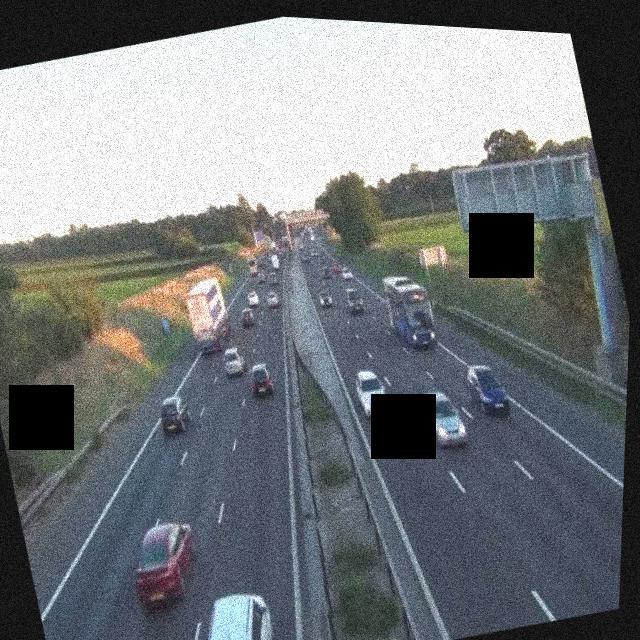car: (122, 514, 209, 614), (187, 584, 285, 640), (413, 384, 470, 453), (461, 357, 513, 421), (350, 365, 393, 422), (155, 393, 194, 438), (246, 359, 276, 399), (219, 343, 247, 378), (346, 287, 366, 315), (236, 300, 257, 324), (317, 286, 334, 308), (264, 289, 280, 308), (245, 289, 261, 308), (338, 265, 353, 279), (320, 264, 333, 279), (267, 271, 279, 286), (253, 269, 265, 283), (301, 250, 310, 263)
truck: (380, 272, 441, 354), (179, 273, 237, 356), (266, 250, 282, 273)
